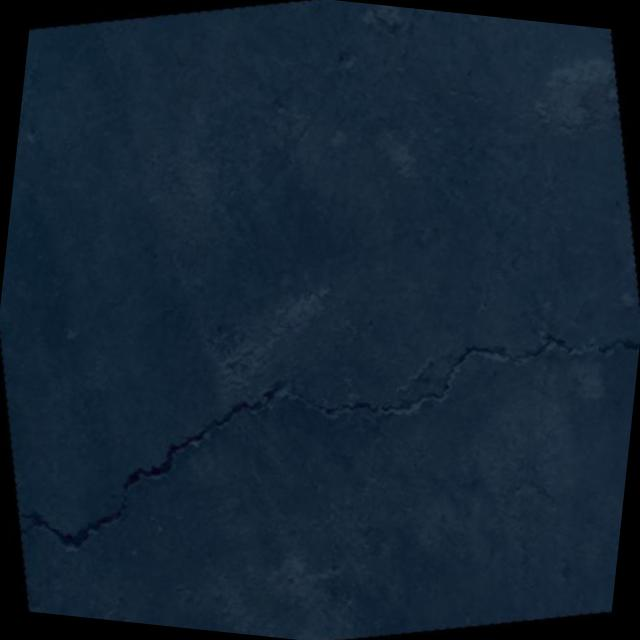crack: (0, 348, 319, 582), (281, 285, 640, 458)
